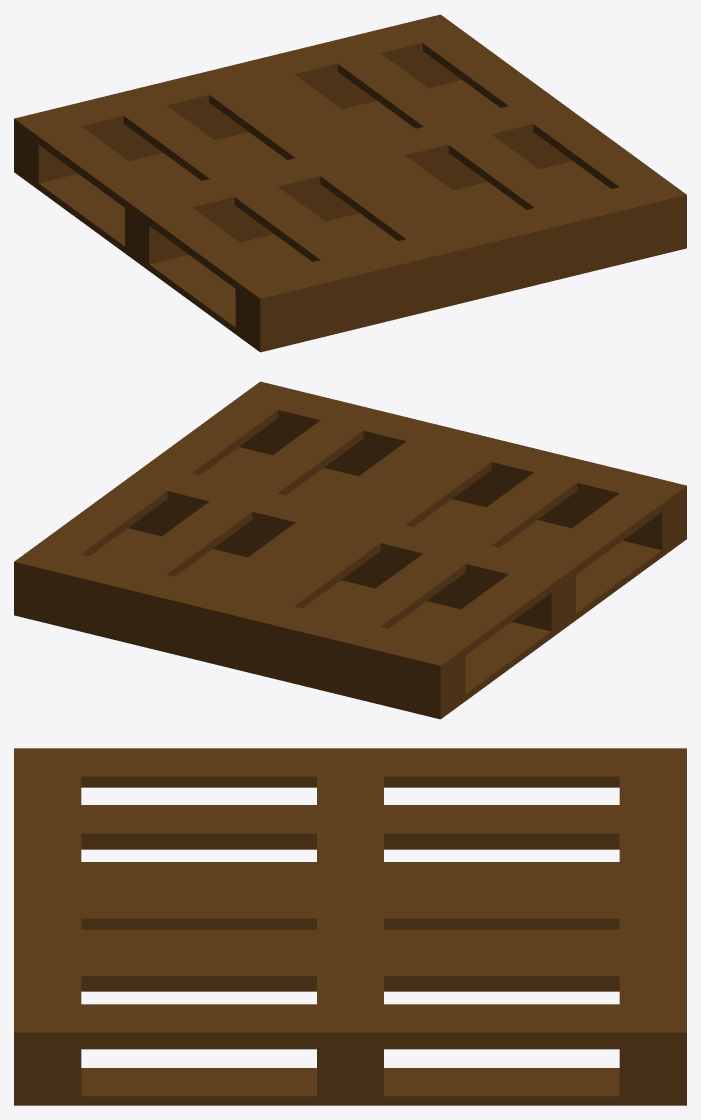
The model's file is wooden_floor_pallet.mtl.obj.
3 views of the same model, one above another, from view 1: azimuth 30°, elevation 25°; view 2: azimuth 150°, elevation 25°; view 3: azimuth 270°, elevation 25° (orthographic). The views are drawn at different scales.
Parts seen in each view (by area): view 1: Cube; view 2: Cube; view 3: Cube.
Part boxes in pixels (box(x1,y1,x2,y2)): Cube: box(14, 14, 686, 352); Cube: box(14, 381, 686, 719); Cube: box(14, 748, 686, 1105).
Bounding box in the file's own units: 10 × 1.2 × 10.
